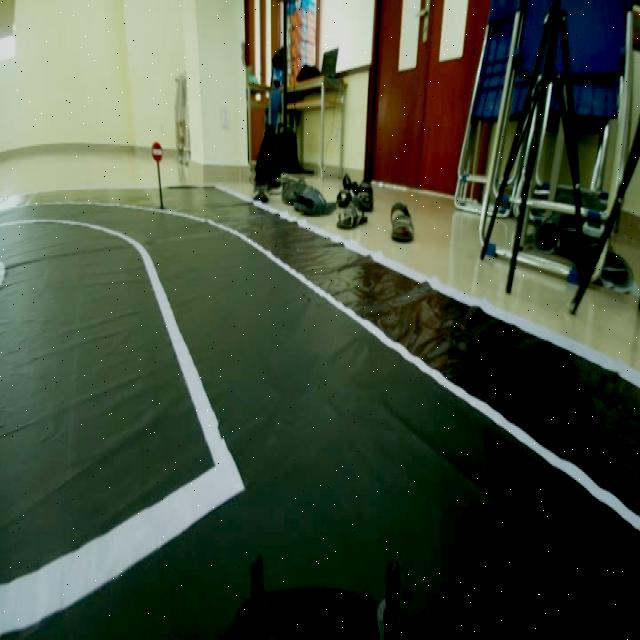no_entry: (151, 136, 165, 162)
